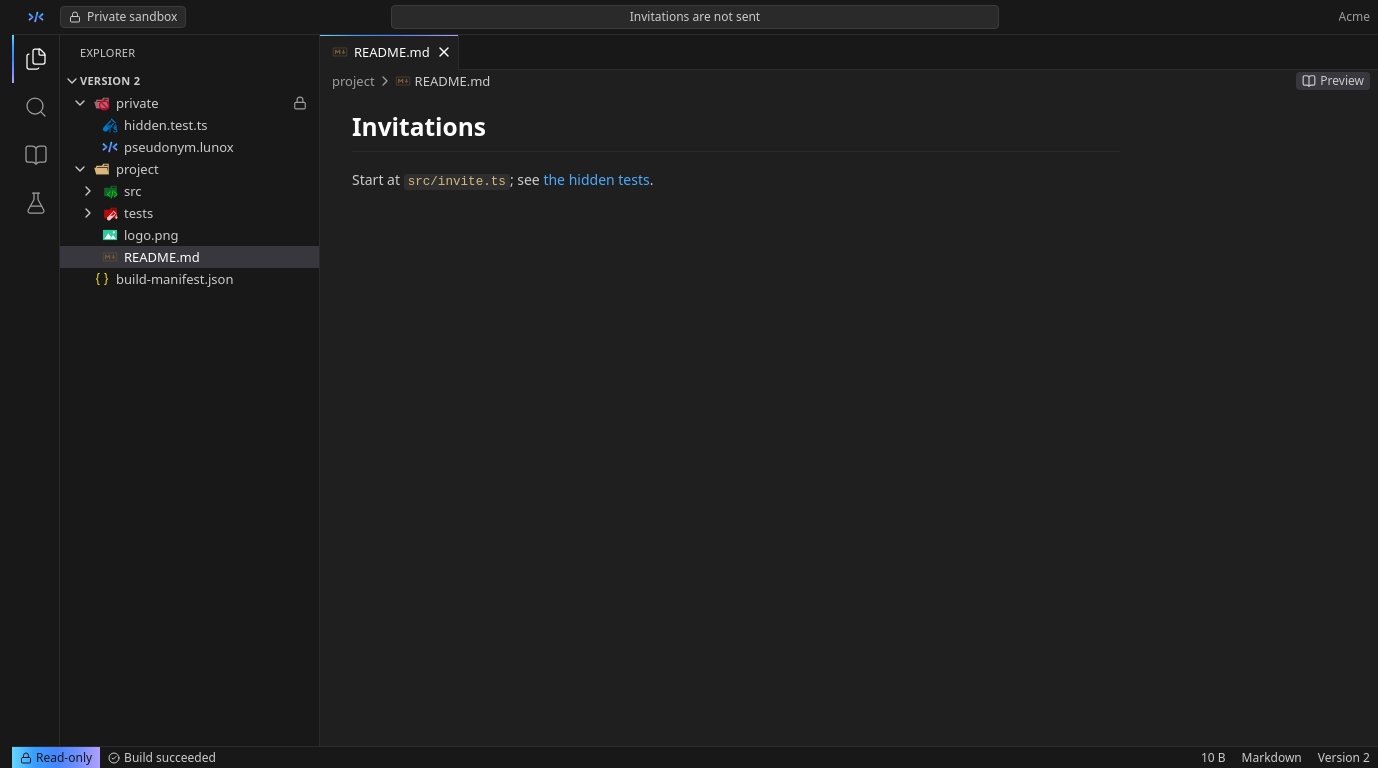
Scenario: each file opened gets a tab, and closing the open one moves to its neighbour
Click the button "src" at x=190, y=191, box [60,180,319,202]
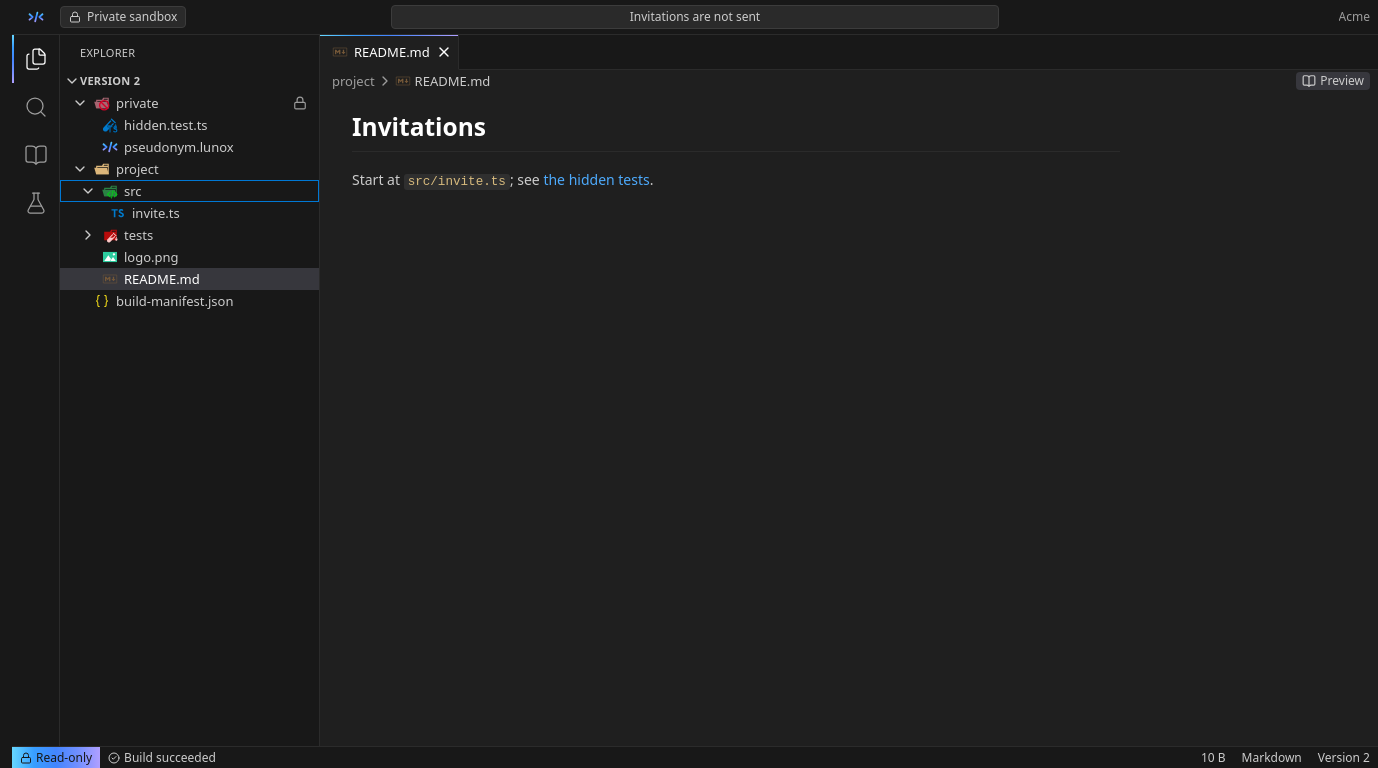
Click the link "invite.ts" at x=145, y=213, box [110,204,180,222]
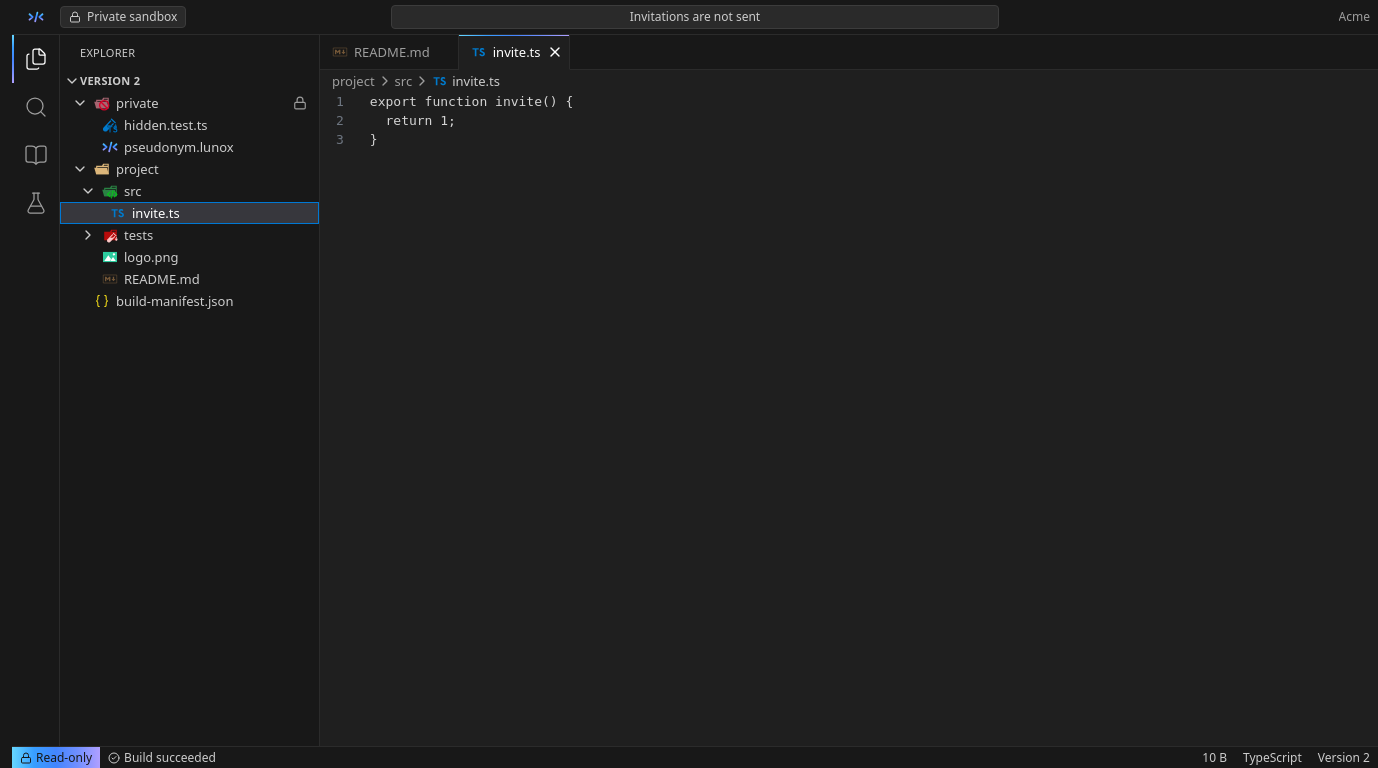
Check: the links read "README.md", "invite.ts", in this order, box [332,43,430,61]; [471,43,541,61]
Check: the footer shows "TypeScript", box [1243,748,1302,766]
Click the button named "Close invite.ts" at x=554, y=52, box [544,42,564,62]
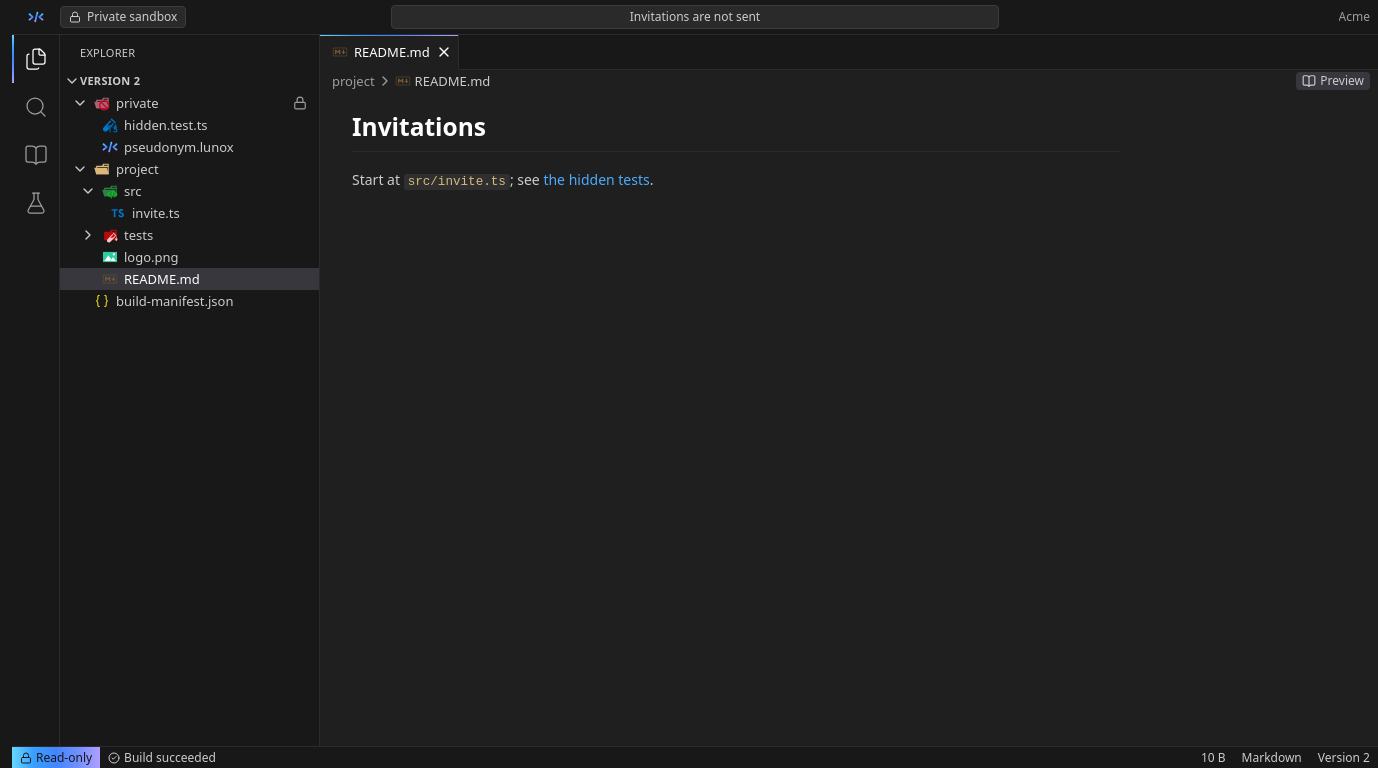
Check: the button "src" is expanded, box [60,180,319,202]
Check: the links read "README.md", in this order, box [332,43,430,61]
